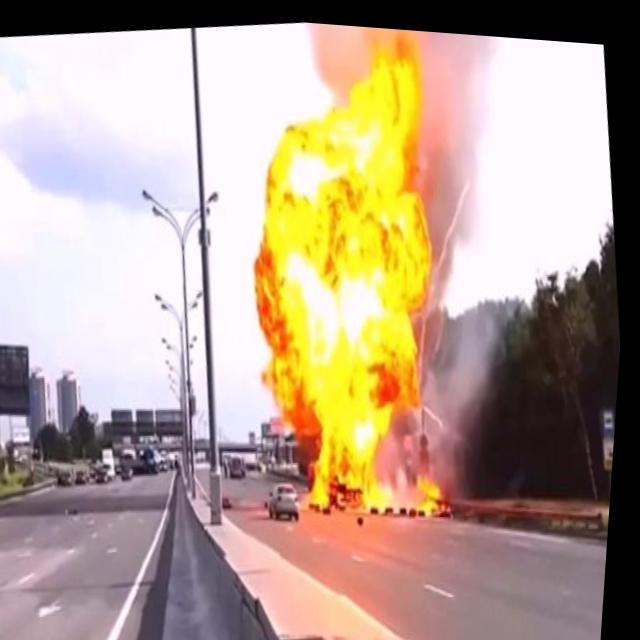fire: (213, 20, 495, 535)
